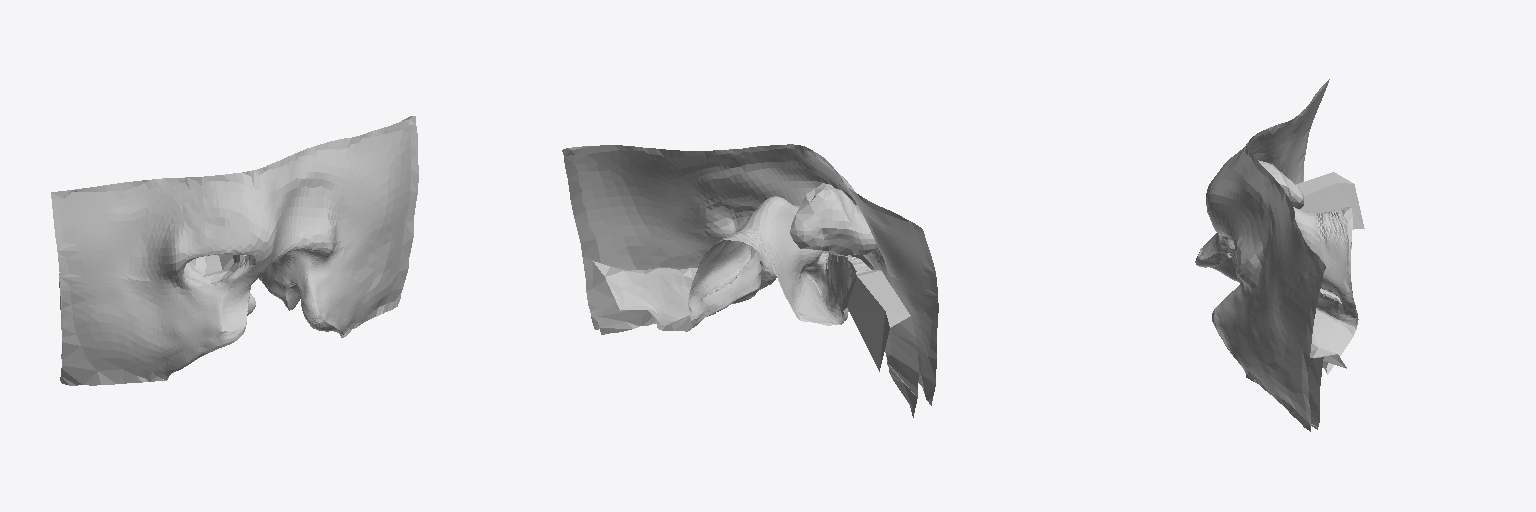
Rendered from unilatCompleteCleft_deepBed.obj.
3 renders of one model, left to right at view 1: azimuth 30°, elevation 25°; view 2: azimuth 150°, elevation 25°; view 3: azimuth 270°, elevation 25°, orthographic.
Bounding box in the file's own units: 4.19 × 2.23 × 1.67.